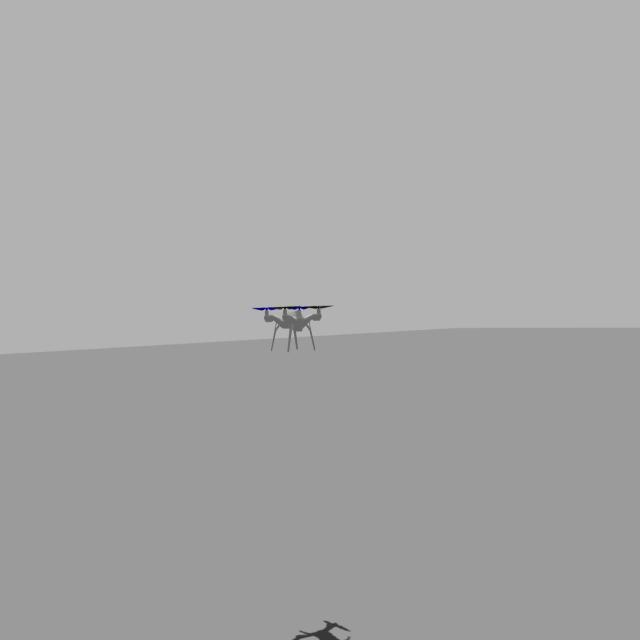Drone: (252, 295, 336, 356)
